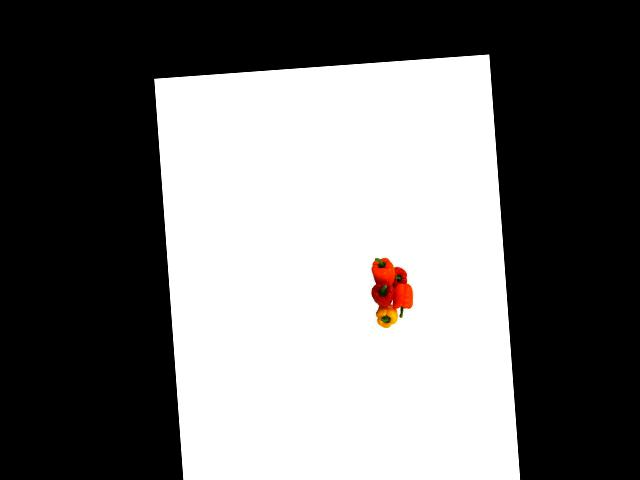bell_pepper: (367, 250, 398, 287)
